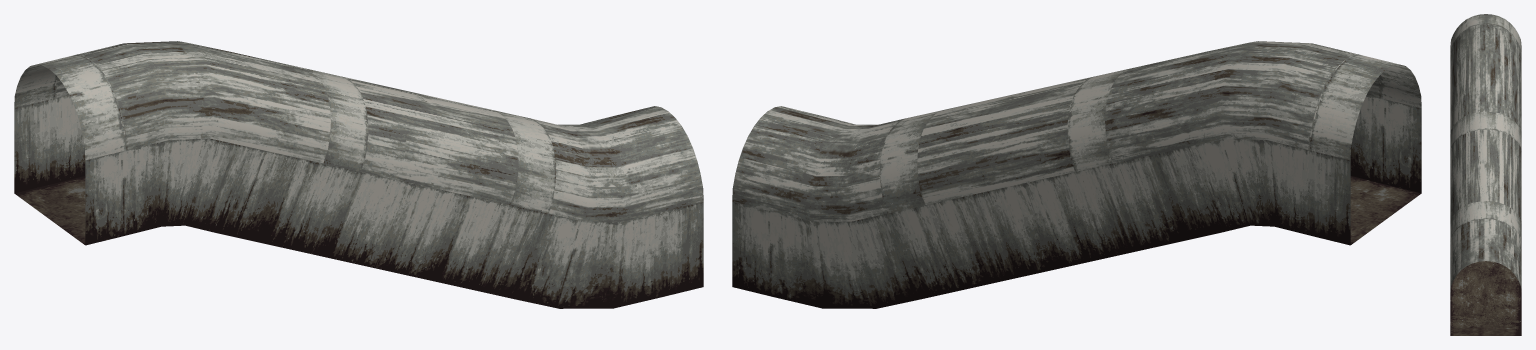
File: SM_EC_ConcreteTunnel_Ramp_0.fbx
3 renders of one model, left to right at view 1: azimuth 30°, elevation 25°; view 2: azimuth 150°, elevation 25°; view 3: azimuth 270°, elevation 25°, orthographic. The views are drawn at different scales.
Parts seen in each view (by area): view 1: SM_EC_ConcreteTunnel_Ramp_0; view 2: SM_EC_ConcreteTunnel_Ramp_0; view 3: SM_EC_ConcreteTunnel_Ramp_0.
Part boxes in pixels (bbox=[...]): SM_EC_ConcreteTunnel_Ramp_0: bbox=[14, 41, 703, 308]; SM_EC_ConcreteTunnel_Ramp_0: bbox=[732, 41, 1421, 308]; SM_EC_ConcreteTunnel_Ramp_0: bbox=[1450, 14, 1521, 335].
Size of the model in its own units: 15.05 by 3 by 7.96.
